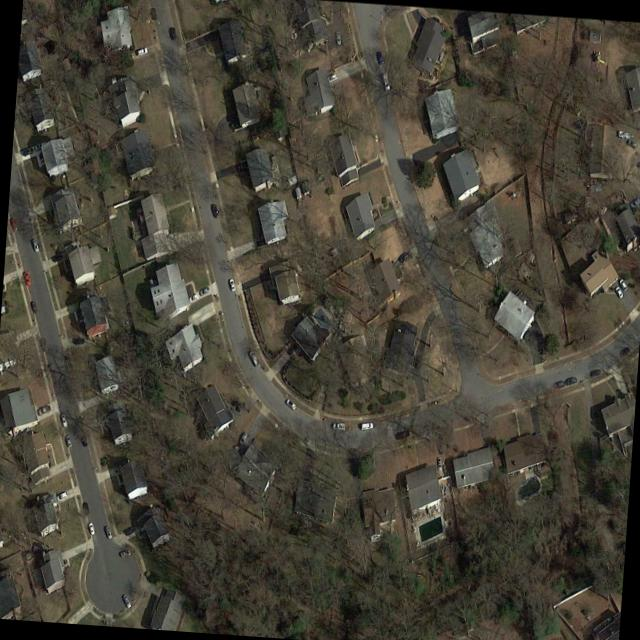small-vehicle: (246, 348, 260, 367), (396, 249, 412, 265), (120, 593, 133, 610), (34, 404, 51, 417), (379, 71, 390, 91), (283, 397, 298, 411), (121, 525, 137, 538), (394, 428, 410, 441), (28, 299, 40, 315), (20, 271, 32, 287), (57, 412, 68, 429), (373, 49, 384, 66), (197, 285, 212, 297), (7, 217, 19, 232), (117, 548, 133, 559), (209, 202, 219, 219), (617, 278, 629, 292), (49, 253, 64, 264), (33, 140, 48, 151), (18, 146, 33, 157), (186, 292, 199, 304), (613, 286, 624, 300), (147, 7, 158, 21), (587, 368, 601, 379), (167, 26, 177, 41), (103, 525, 112, 541), (227, 278, 236, 294), (628, 197, 640, 209), (55, 490, 68, 501), (62, 435, 73, 448), (135, 46, 148, 57), (563, 375, 576, 386), (237, 431, 247, 445), (80, 501, 89, 516), (31, 239, 40, 254), (86, 522, 95, 536), (550, 380, 564, 389), (78, 435, 88, 447), (626, 139, 639, 148), (618, 347, 629, 357), (326, 72, 337, 82), (436, 457, 443, 472), (360, 423, 373, 431), (332, 423, 346, 430), (71, 338, 84, 345), (333, 29, 339, 44), (635, 162, 640, 169)
